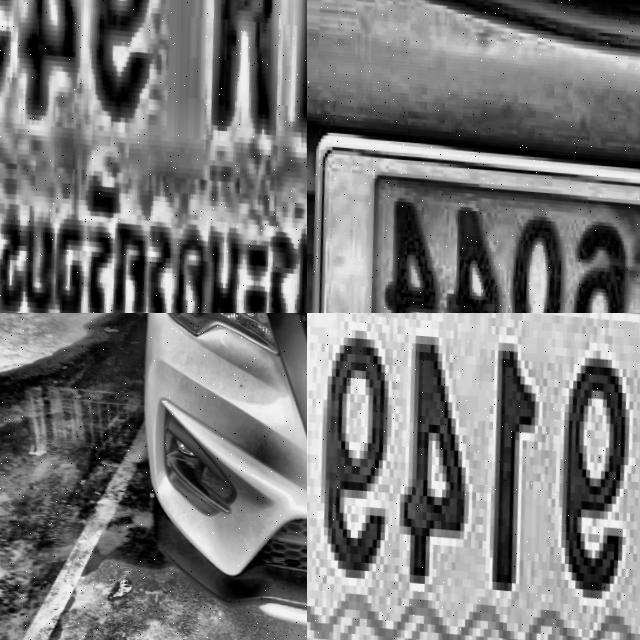license-plate: (307, 313, 640, 640), (0, 0, 307, 313), (307, 118, 640, 313)
